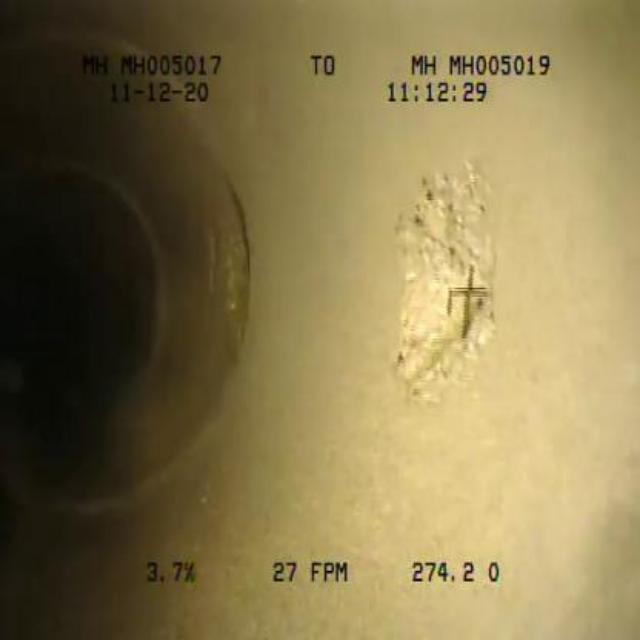Hole: (362, 154, 562, 426)
